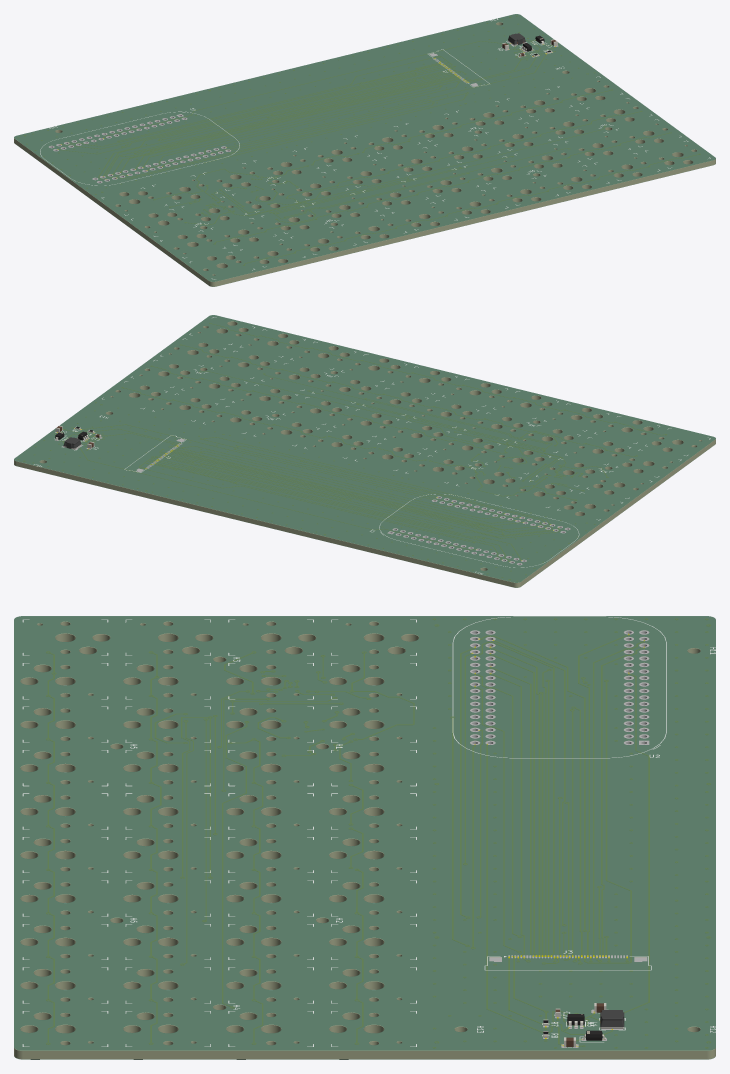
Rendered from pcb.glb.
3 views of the same model, one above another, from view 1: azimuth 30°, elevation 25°; view 2: azimuth 150°, elevation 25°; view 3: azimuth 270°, elevation 25° (orthographic). The views are drawn at different scales.
Parts seen in each view (by area): view 1: =>[0:1:1:33], =>[0:1:1:35], =>[0:1:1:31], =>[0:1:1:29]; view 2: =>[0:1:1:33], =>[0:1:1:35], =>[0:1:1:29], =>[0:1:1:31]; view 3: =>[0:1:1:33], =>[0:1:1:35], =>[0:1:1:28], =>[0:1:1:29], =>[0:1:1:31], =>[0:1:1:34].
Boxes of the visible parts, left/top/right/bottom form: =>[0:1:1:33]: left=14, top=14, right=715, bottom=281; =>[0:1:1:35]: left=14, top=15, right=715, bottom=286; =>[0:1:1:31]: left=40, top=18, right=710, bottom=279; =>[0:1:1:29]: left=49, top=39, right=558, bottom=183; =>[0:1:1:33]: left=14, top=315, right=715, bottom=582; =>[0:1:1:35]: left=14, top=316, right=715, bottom=587; =>[0:1:1:29]: left=55, top=428, right=570, bottom=565; =>[0:1:1:31]: left=34, top=317, right=710, bottom=574; =>[0:1:1:33]: left=14, top=616, right=715, bottom=1050; =>[0:1:1:35]: left=14, top=617, right=715, bottom=1059; =>[0:1:1:28]: left=46, top=619, right=710, bottom=1047; =>[0:1:1:29]: left=470, top=630, right=649, bottom=1047; =>[0:1:1:31]: left=22, top=616, right=715, bottom=1047; =>[0:1:1:34]: left=14, top=685, right=715, bottom=1059.
Bounding box in the file's own units: 0.17 × 0.00459 × 0.116.
